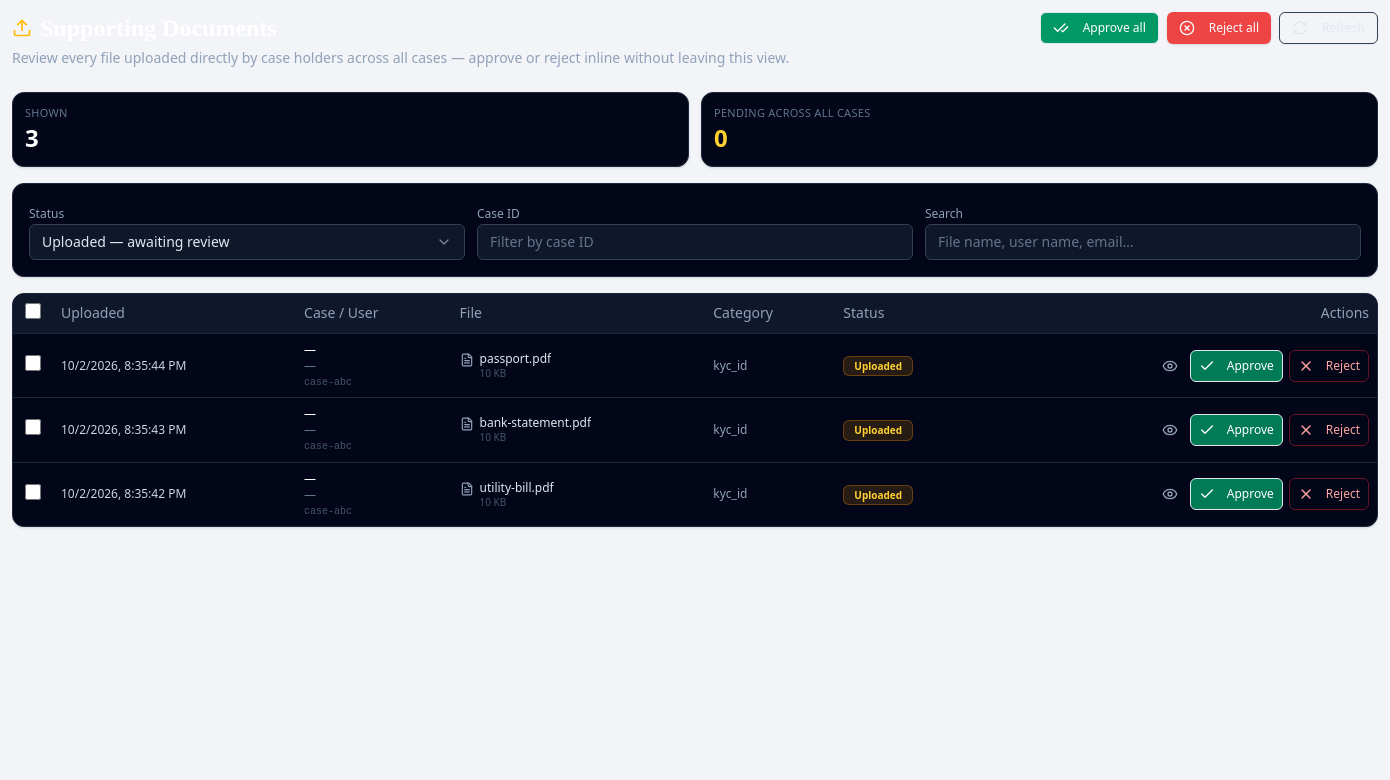
Test case: SupportingDocumentsTab – selection persistence (Task #455) › selections survive a client-side search filter change (no server reload)
Check: the row with test id "row-supporting-doc-10" is shown, box [13, 334, 1377, 398]
Click the checkbox with test id "checkbox-select-all-supporting-docs" at (33, 311), box [25, 303, 41, 319]
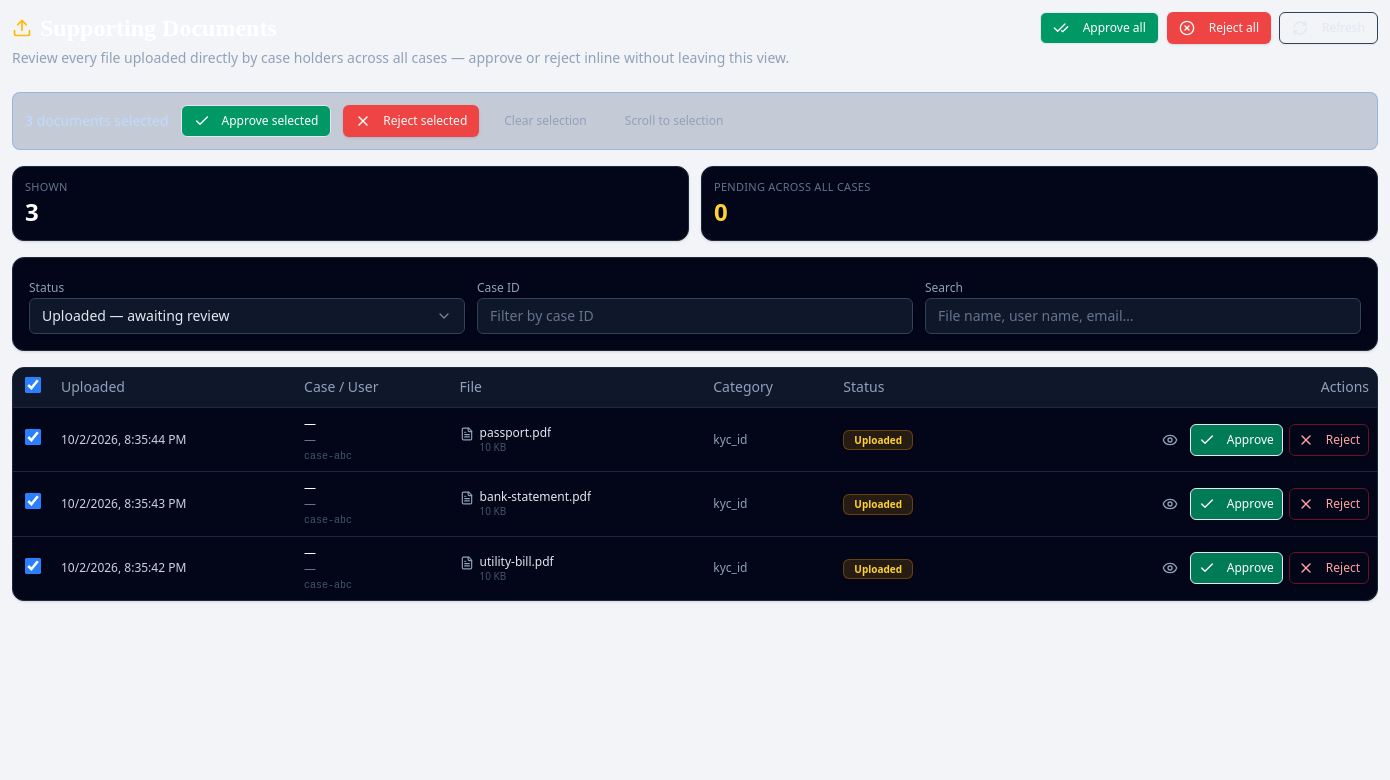
Check: the element with test id "toolbar-selection-supporting-docs" is shown, box [12, 92, 1378, 150]
Type "passport" into the field with test id "input-filter-supporting-search" at (1143, 316), box [925, 298, 1361, 334]
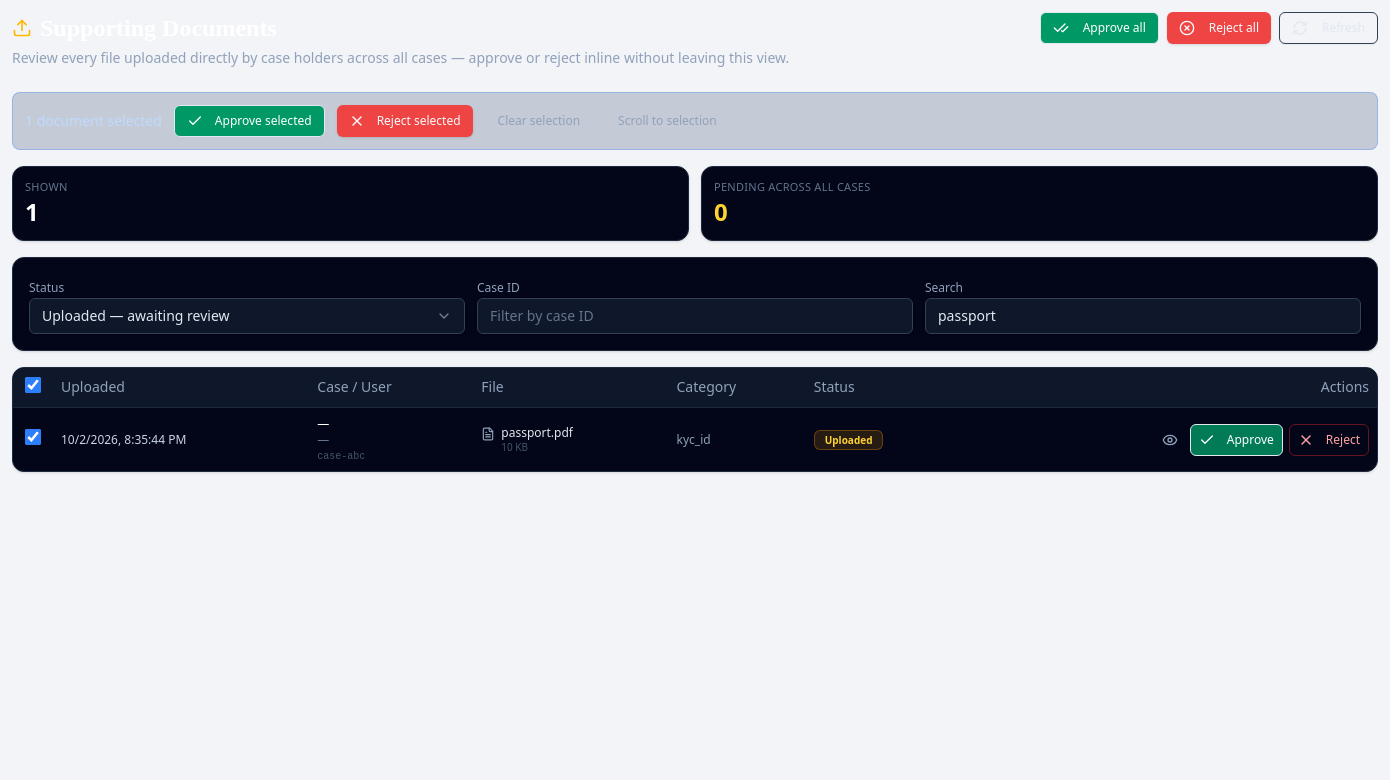
Check: the element with test id "toolbar-selection-supporting-docs" is shown, box [12, 92, 1378, 150]
Check: the row with test id "row-supporting-doc-11" is gone
